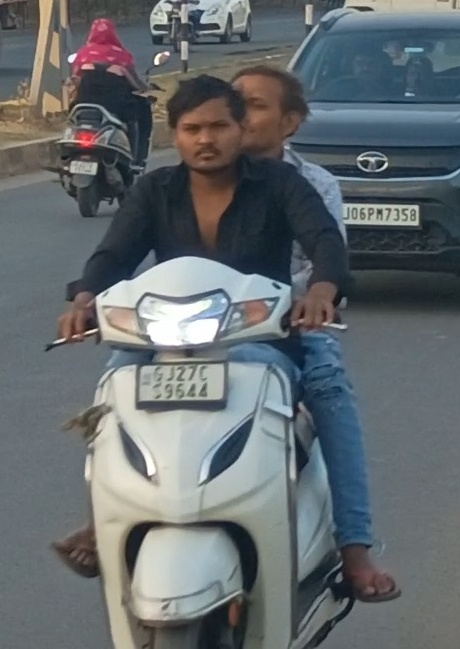BikeWithRider: (32, 55, 407, 648), (29, 15, 167, 221)
NoHelmet: (165, 75, 253, 179), (221, 61, 307, 153), (84, 14, 118, 49)
